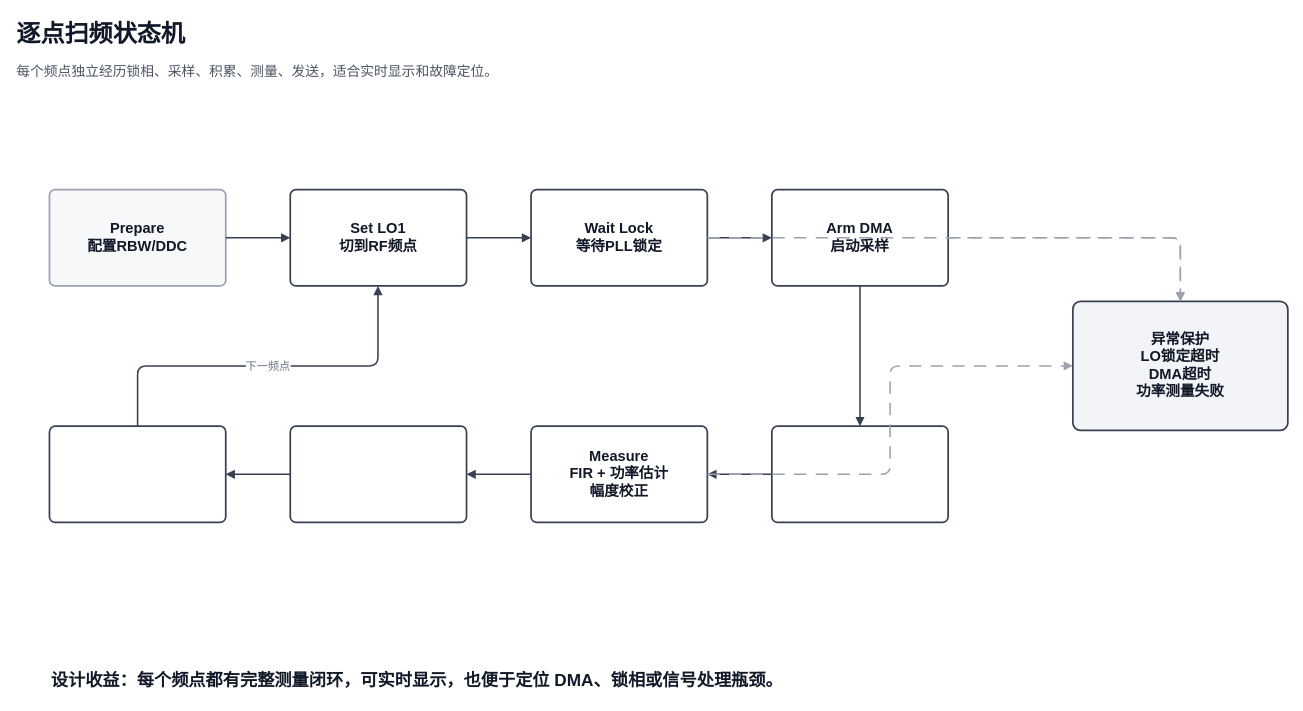
Image size: 1303x711. Some labels were removed from this diagram. The centre of each missing label's shape, as x and y in pixels:
Accumulate DDC + CIC 累积样本: (x=860, y=474)
Emit Point 发送0x82: (x=378, y=474)
Next Point 或 Done: (x=137, y=474)
